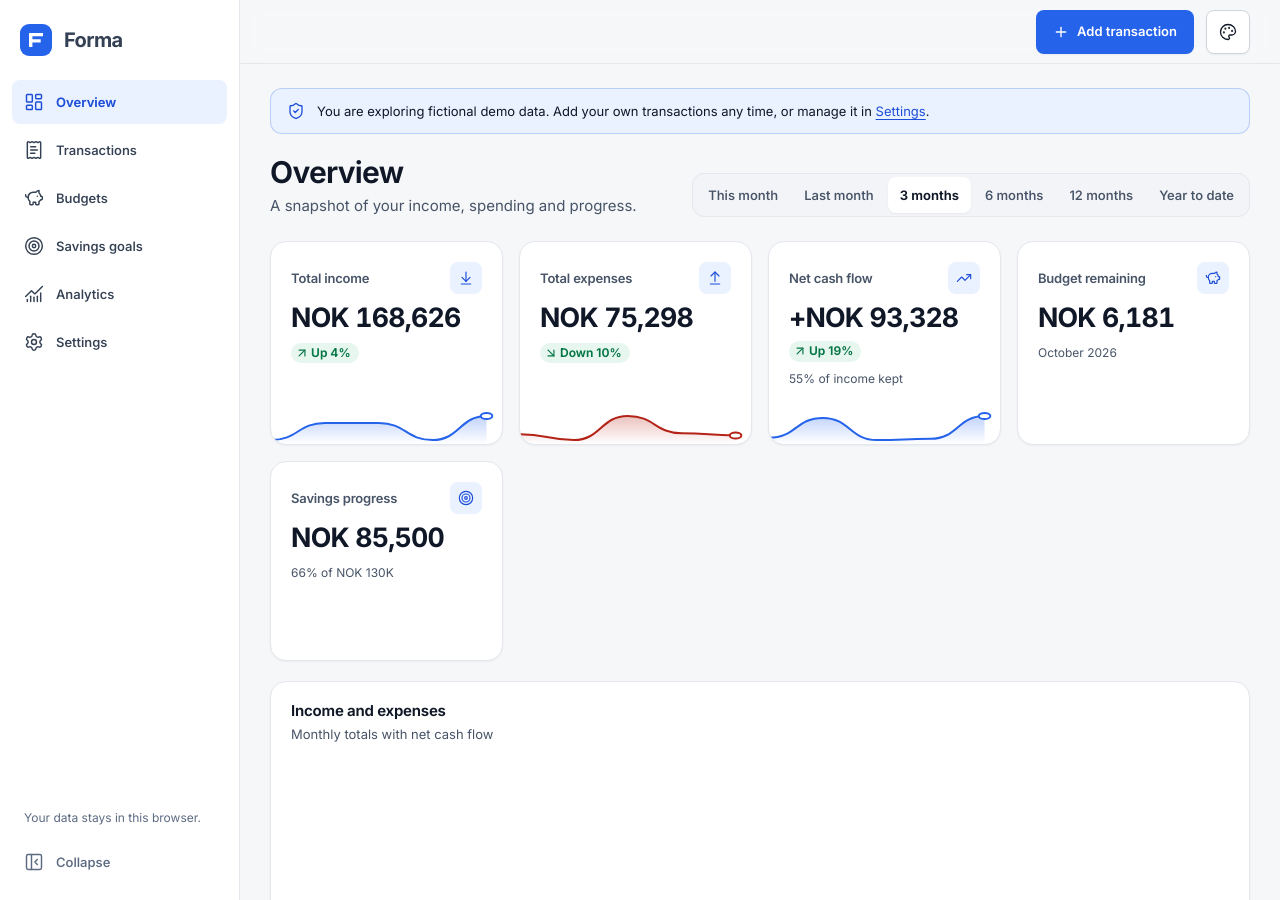
Test: first run and navigation › navigates between sections and marks the current page
The width and height of the screenshot is (1280, 900).
expect the heading "Overview" is shown: met, box [270,154,403,190]
Click the link "Budgets" at x=66, y=198, box [24,188,108,208]
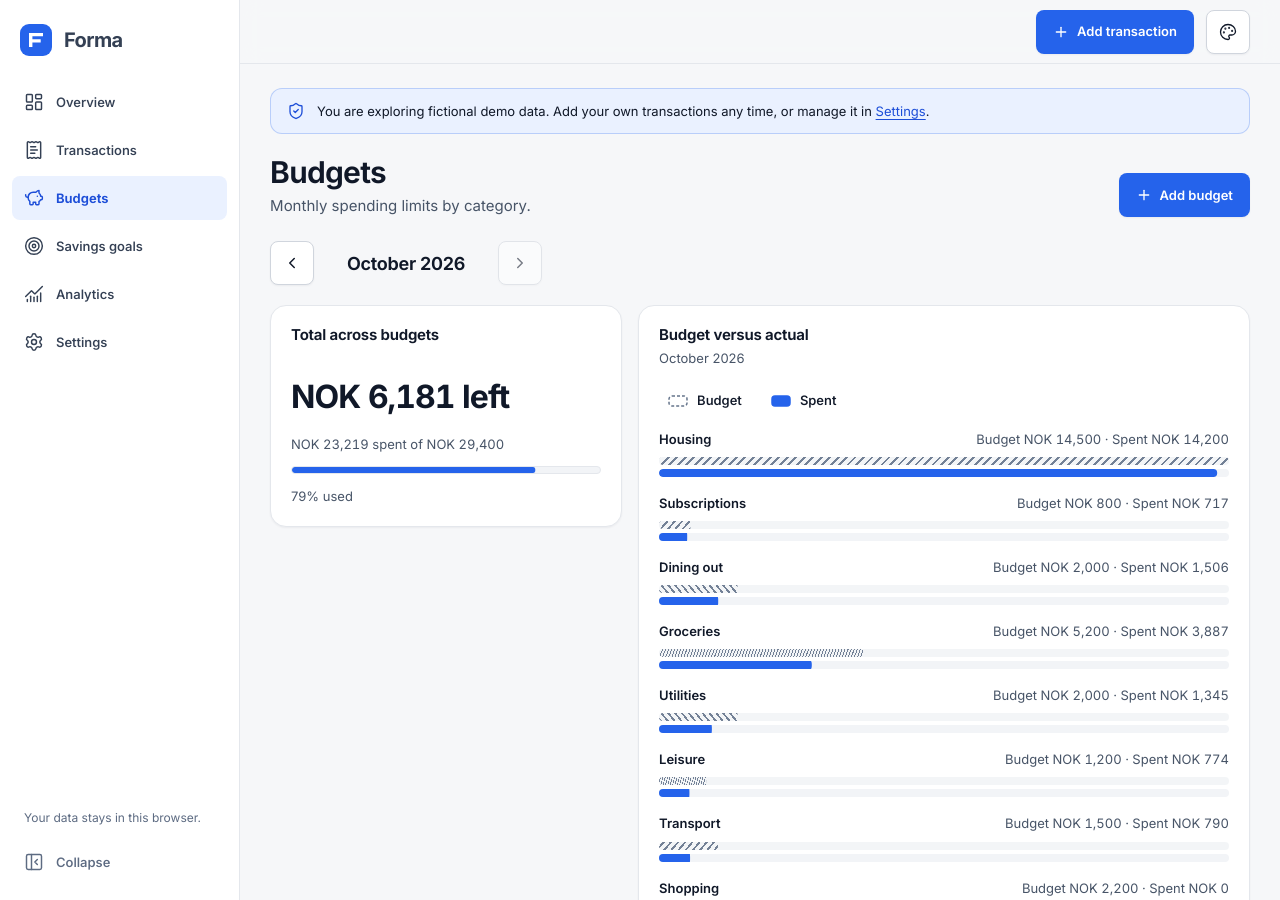
expect the heading "Budgets" is shown: met, box [270,154,386,190]
